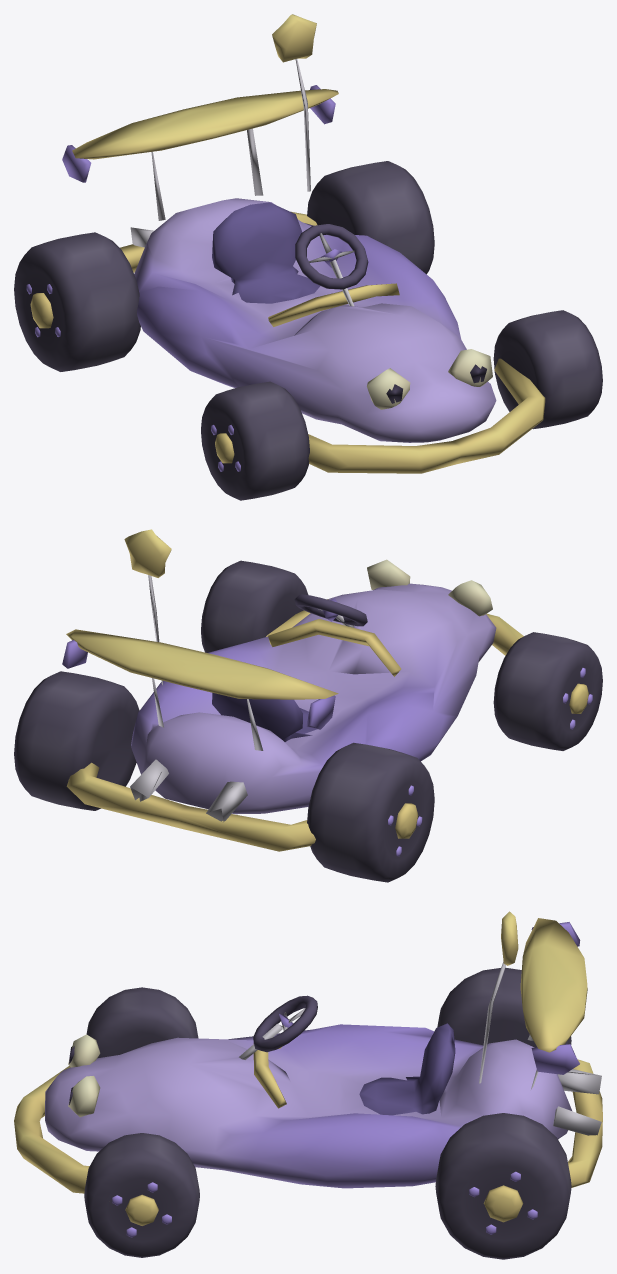
File: veh_kart_star_lite.glb
3 renders of one model, top to bottom at view 1: azimuth 30°, elevation 25°; view 2: azimuth 150°, elevation 25°; view 3: azimuth 270°, elevation 25°, orthographic.
Visible parts, largest first — view 1: SM_veh_kart_star_lite_body_gloss, SM_veh_kart_star_lite_wheel_rr, SM_veh_kart_star_lite_wheel_fr, SM_veh_kart_star_lite_wheel_fl, SM_veh_kart_star_lite_wheel_rl, SM_veh_kart_star_lite_body, SM_veh_kart_star_lite_steer, SM_veh_kart_star_lite_wheel_rr_gloss; view 2: SM_veh_kart_star_lite_body_gloss, SM_veh_kart_star_lite_wheel_rr, SM_veh_kart_star_lite_wheel_rl, SM_veh_kart_star_lite_wheel_fr, SM_veh_kart_star_lite_wheel_fl, SM_veh_kart_star_lite_body, SM_veh_kart_star_lite_steer, SM_veh_kart_star_lite_wheel_rr_gloss; view 3: SM_veh_kart_star_lite_body_gloss, SM_veh_kart_star_lite_wheel_rl, SM_veh_kart_star_lite_wheel_fl, SM_veh_kart_star_lite_wheel_fr, SM_veh_kart_star_lite_wheel_rr, SM_veh_kart_star_lite_body, SM_veh_kart_star_lite_steer, SM_veh_kart_star_lite_wheel_rl_gloss, SM_veh_kart_star_lite_wheel_fl_gloss.
Part boxes in pixels (x1,y1,x2,y2): SM_veh_kart_star_lite_body_gloss: [62, 14, 545, 473]; SM_veh_kart_star_lite_wheel_rr: [14, 232, 140, 371]; SM_veh_kart_star_lite_wheel_fr: [201, 381, 309, 500]; SM_veh_kart_star_lite_wheel_fl: [493, 310, 602, 429]; SM_veh_kart_star_lite_wheel_rl: [307, 161, 434, 274]; SM_veh_kart_star_lite_body: [212, 202, 320, 303]; SM_veh_kart_star_lite_steer: [295, 224, 368, 289]; SM_veh_kart_star_lite_wheel_rr_gloss: [30, 293, 53, 328]; SM_veh_kart_star_lite_body_gloss: [62, 529, 523, 851]; SM_veh_kart_star_lite_wheel_rr: [307, 742, 434, 882]; SM_veh_kart_star_lite_wheel_rl: [14, 671, 139, 810]; SM_veh_kart_star_lite_wheel_fr: [493, 632, 602, 750]; SM_veh_kart_star_lite_wheel_fl: [201, 560, 308, 652]; SM_veh_kart_star_lite_body: [212, 693, 316, 741]; SM_veh_kart_star_lite_steer: [294, 594, 367, 626]; SM_veh_kart_star_lite_wheel_rr_gloss: [395, 803, 418, 838]; SM_veh_kart_star_lite_body_gloss: [14, 911, 602, 1193]; SM_veh_kart_star_lite_wheel_rl: [435, 1113, 571, 1259]; SM_veh_kart_star_lite_wheel_fl: [84, 1133, 199, 1257]; SM_veh_kart_star_lite_wheel_fr: [86, 987, 198, 1058]; SM_veh_kart_star_lite_wheel_rr: [437, 967, 571, 1047]; SM_veh_kart_star_lite_body: [359, 1023, 455, 1115]; SM_veh_kart_star_lite_steer: [253, 995, 317, 1052]; SM_veh_kart_star_lite_wheel_rl_gloss: [483, 1185, 523, 1222]; SM_veh_kart_star_lite_wheel_fl_gloss: [125, 1194, 158, 1225].
Size of the model in its own units: 1.54 by 1.15 by 2.05.
